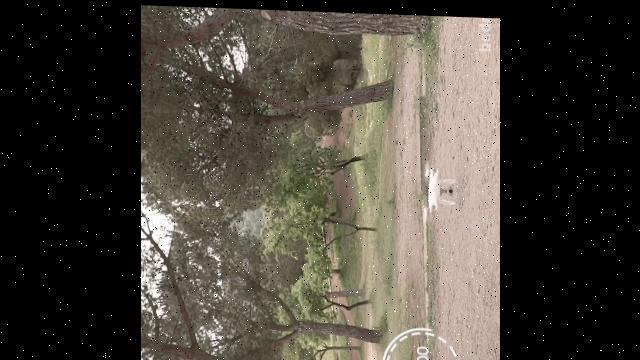drone: (419, 157, 457, 227)
